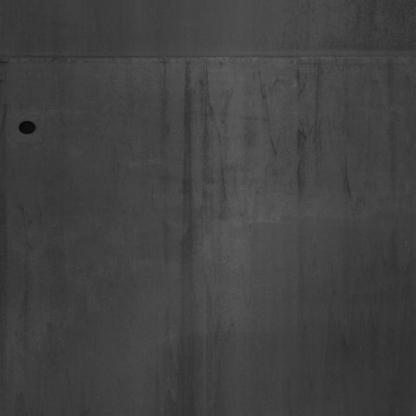punching_hole: (16, 115, 40, 138)
silk_spot: (162, 74, 350, 219), (14, 210, 103, 406), (149, 250, 254, 408), (321, 245, 409, 401)
welding_line: (0, 43, 411, 71)
